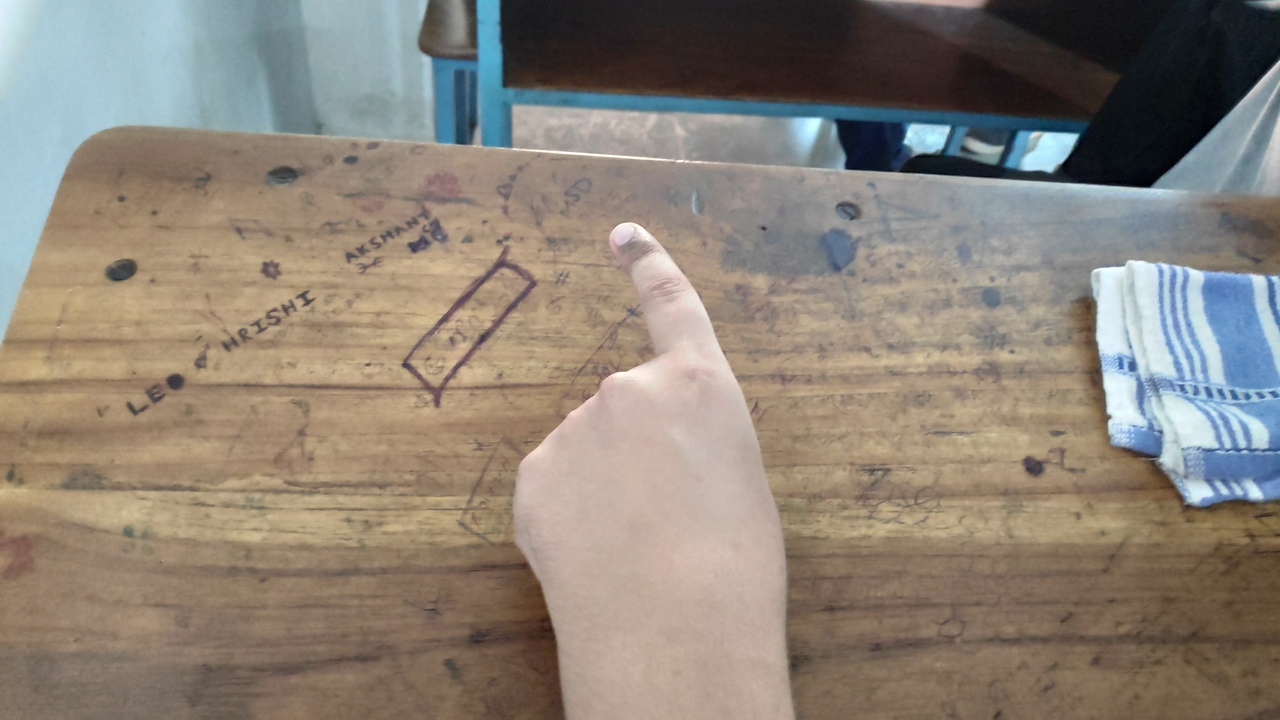fingertip: (596, 210, 674, 274)
